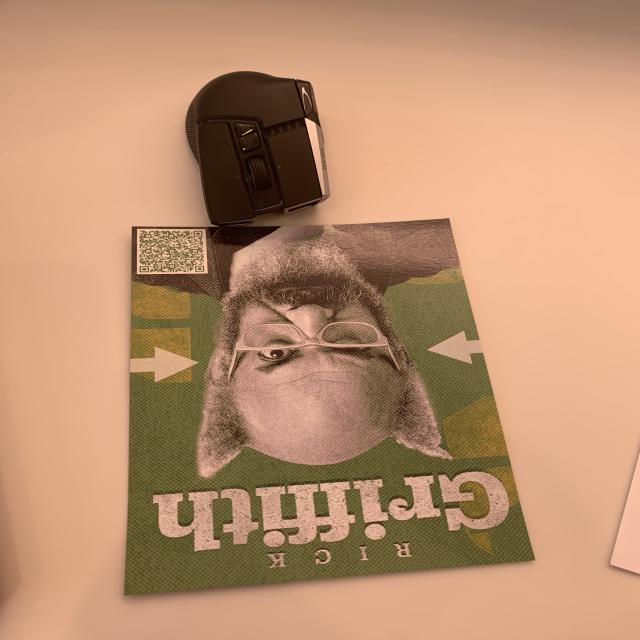Mouse: (176, 68, 343, 232)
